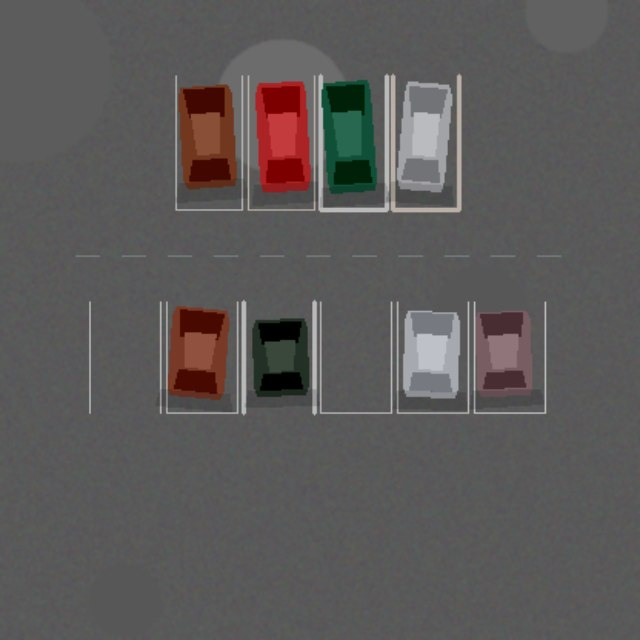space-empty: (89, 302, 160, 412), (320, 302, 391, 412)
space-occupied: (175, 75, 242, 209), (248, 75, 314, 209), (320, 75, 386, 209), (392, 75, 458, 209), (166, 302, 237, 412), (243, 302, 314, 412), (397, 302, 468, 412), (474, 302, 545, 412)
